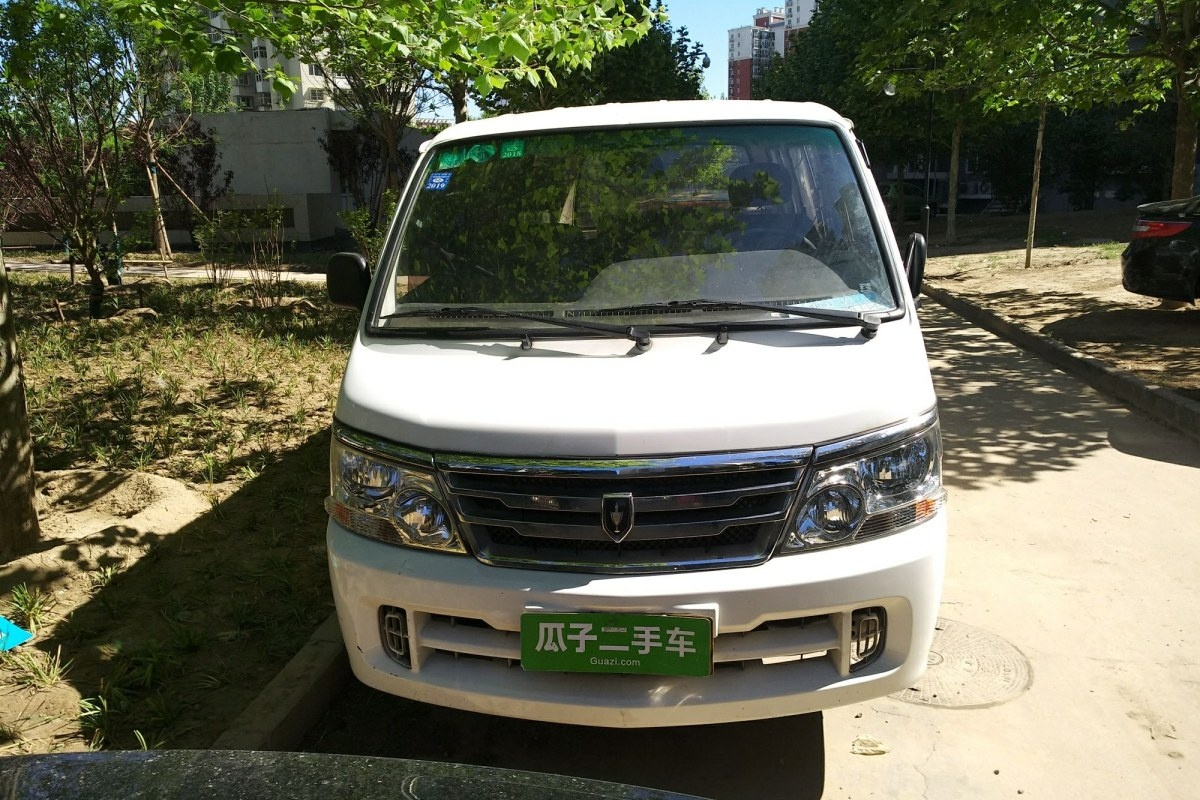minibus: (293, 94, 995, 739)
